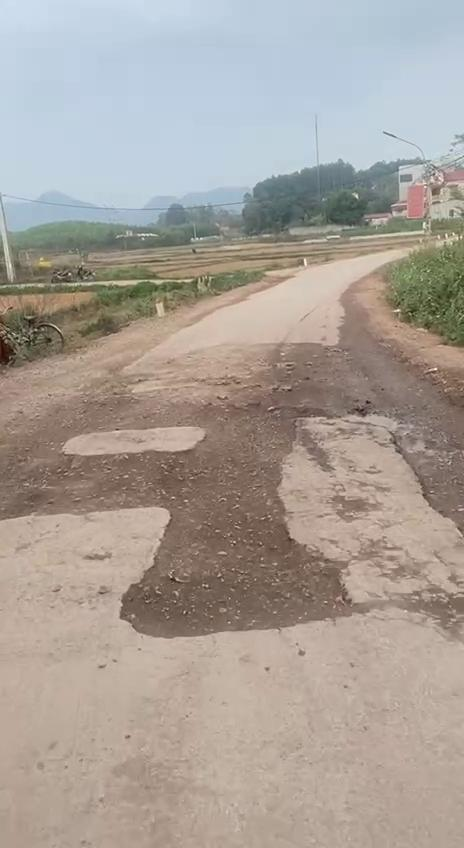pothole: (114, 444, 361, 638)
